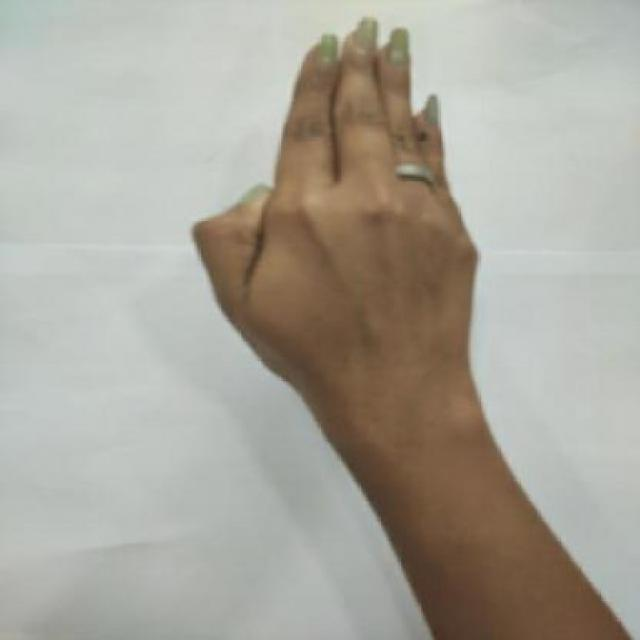without_gloves: (181, 5, 494, 493)
